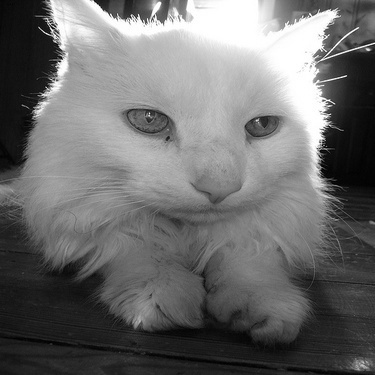cat: (16, 6, 339, 342)
